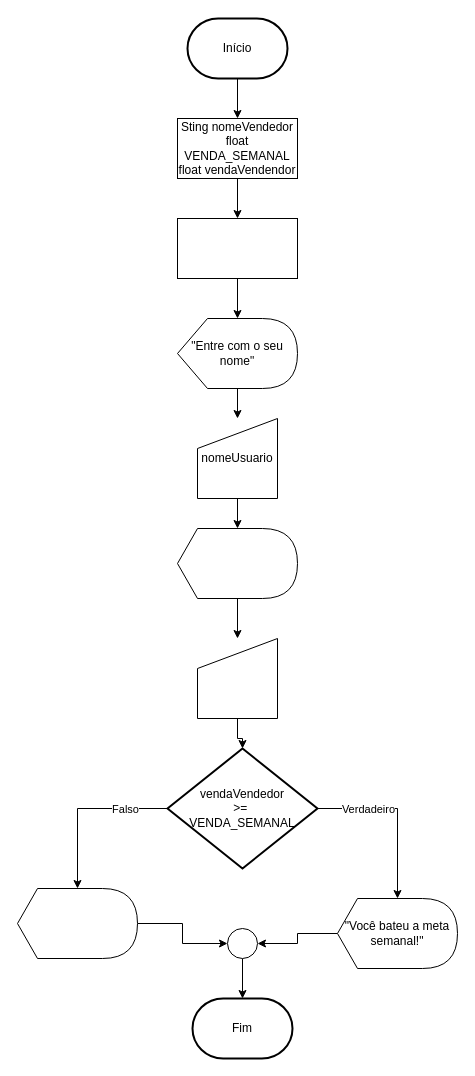
This 475x1076 diagram has some shape labels left out. The centre of each missing label's shape, as x and y in pixels:
"Entre com o seu montante de vendas": (x=237, y=563)
"Você não bateu a meta!": (x=77, y=923)
nomeVendedor = " " vendaVendedor = 0 VENDA_SEMANAL = 15000: (x=237, y=248)
vendaVendedor: (x=237, y=678)
